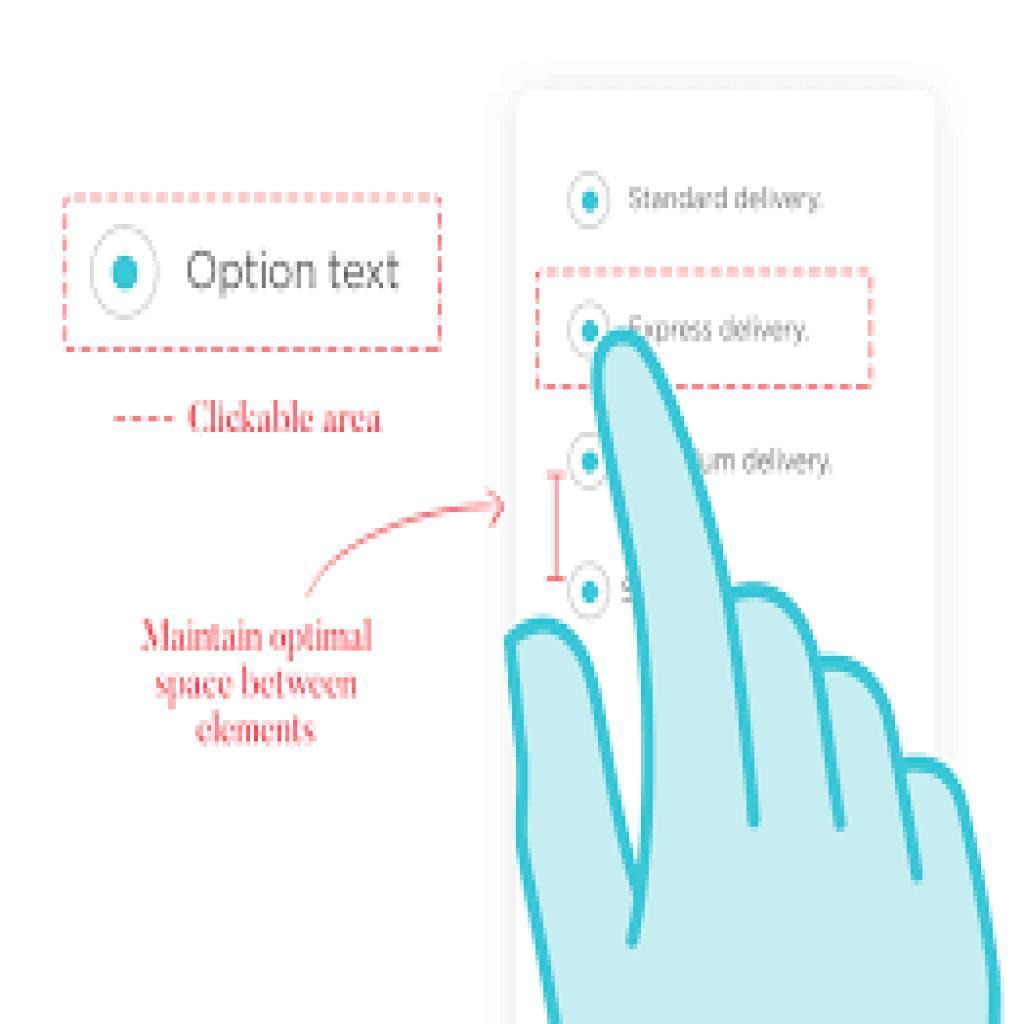radio: (91, 225, 163, 316), (565, 166, 616, 232), (569, 554, 612, 628), (569, 300, 618, 364), (565, 433, 605, 503)
